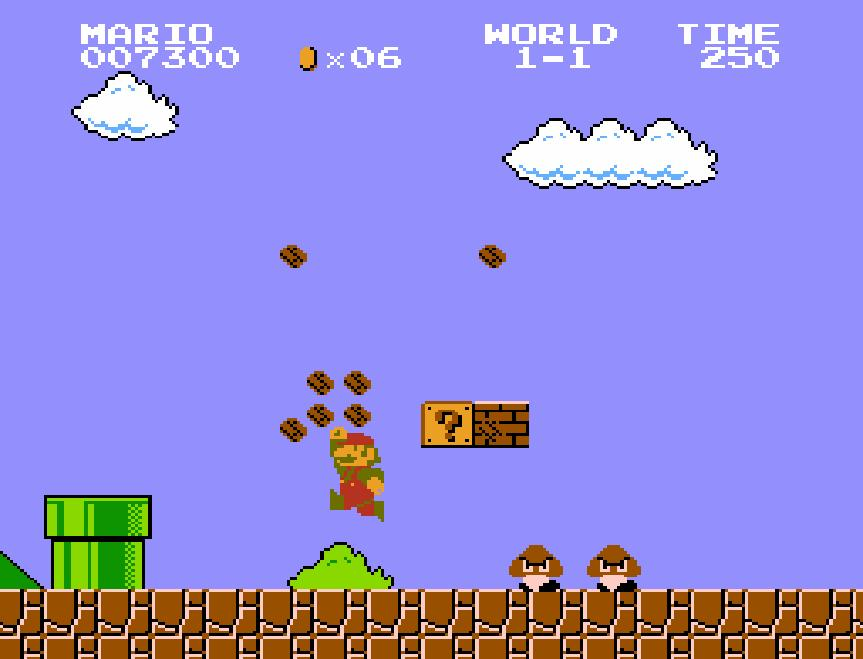big_mario: (328, 425, 386, 524)
